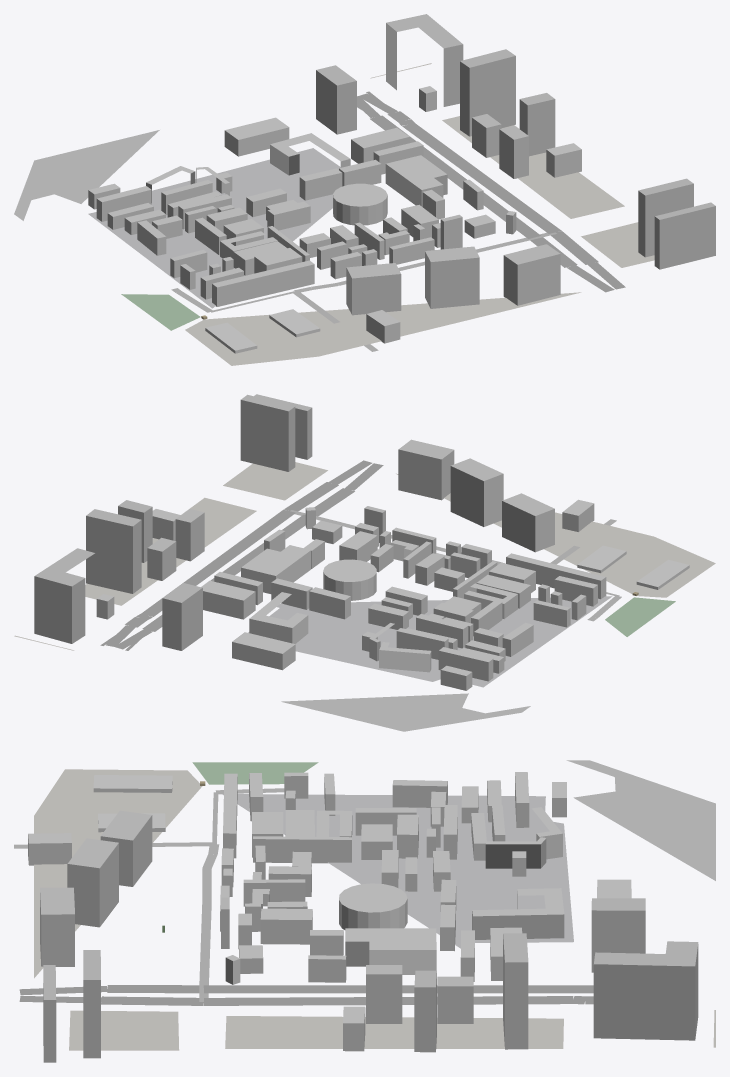
The picture shows the model from 3 angles, top to bottom: view 1: azimuth 30°, elevation 25°; view 2: azimuth 150°, elevation 25°; view 3: azimuth 270°, elevation 25°; orthographic projection. The views are drawn at different scales.
Size of the model in its own units: 520 by 73.29 by 515.
